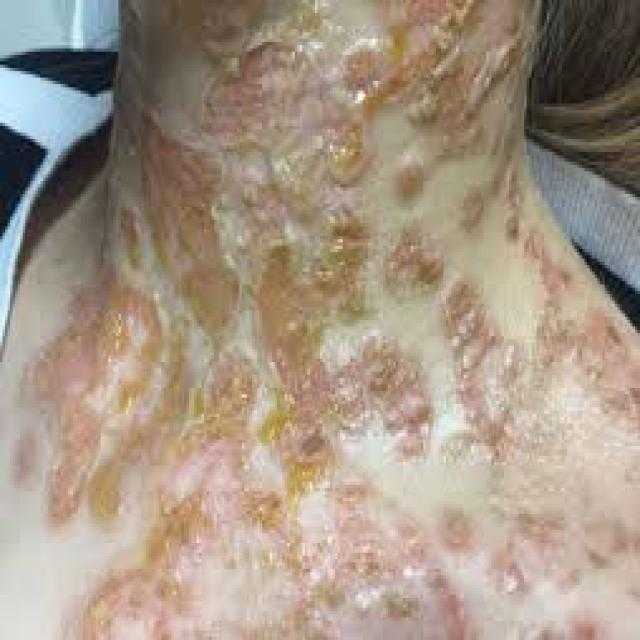Acanthosis Nigricans: (122, 36, 529, 640)
